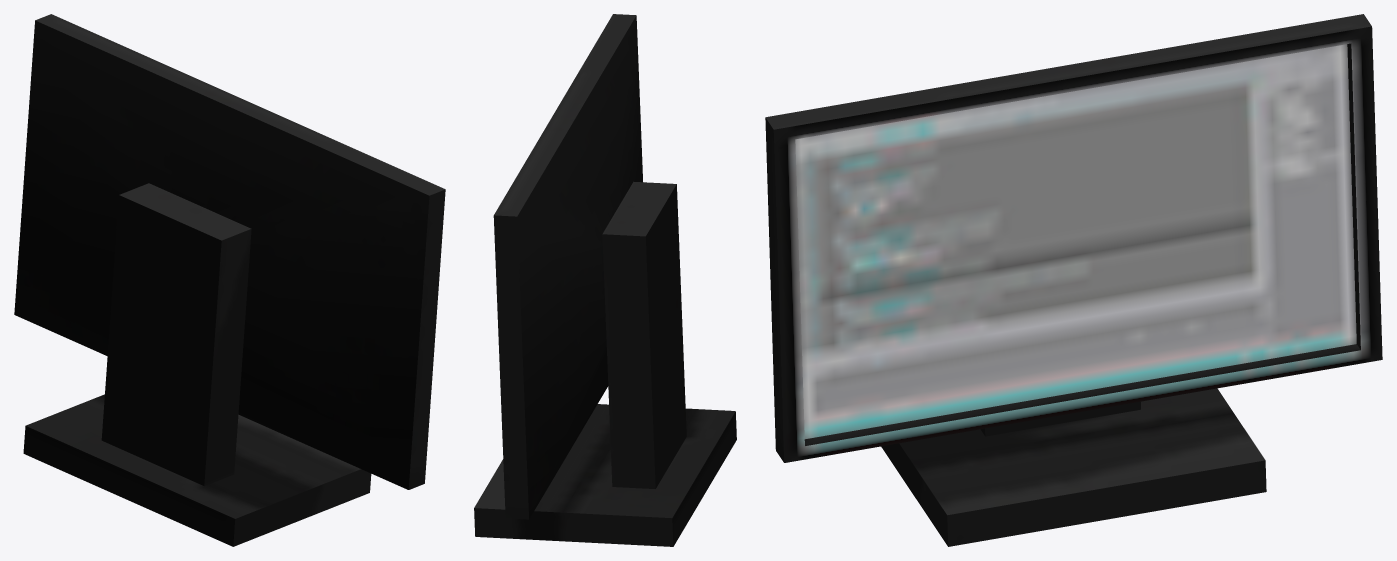
Rendered from Tx_prop_monitor_computing.fbx.
The picture shows the model from 3 angles, left to right: view 1: azimuth 30°, elevation 25°; view 2: azimuth 150°, elevation 25°; view 3: azimuth 270°, elevation 25°; orthographic projection. The views are drawn at different scales.
Visible parts, largest first — view 1: Tx_prop_monitor_computing; view 2: Tx_prop_monitor_computing; view 3: Tx_prop_monitor_computing.
Boxes of the visible parts, left/top/right/bottom form: Tx_prop_monitor_computing: left=14, top=14, right=445, bottom=546; Tx_prop_monitor_computing: left=474, top=14, right=736, bottom=546; Tx_prop_monitor_computing: left=765, top=14, right=1382, bottom=546.
Bounding box in the file's own units: 2.6 × 3.91 × 4.93.
